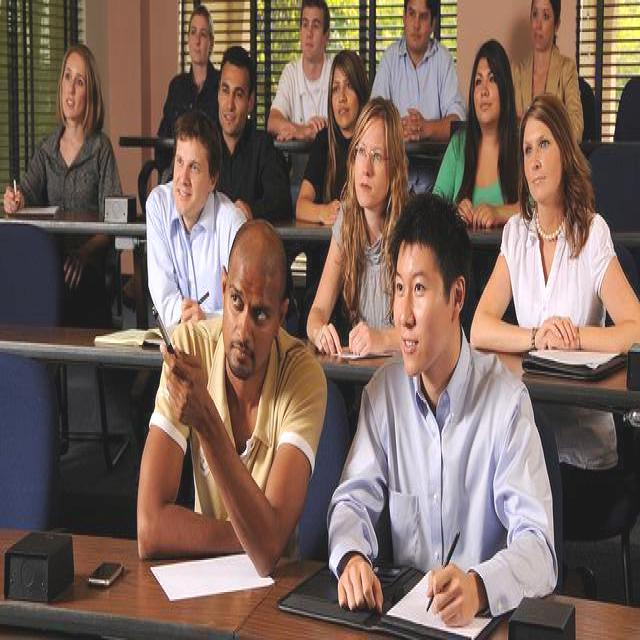face_nomask: (392, 249, 453, 379), (220, 272, 274, 373), (341, 140, 395, 210), (520, 128, 564, 203), (167, 150, 213, 212), (53, 62, 94, 124), (214, 76, 252, 140), (331, 71, 363, 133), (468, 66, 505, 119), (399, 7, 433, 57), (297, 14, 325, 59), (186, 21, 210, 66), (530, 7, 551, 46)
hand_noglove: (425, 553, 483, 638), (155, 334, 208, 425), (335, 547, 385, 617), (537, 311, 579, 357), (0, 172, 30, 222), (345, 315, 376, 359), (312, 318, 342, 359)
head_nohelmet: (396, 183, 458, 260), (227, 217, 294, 275), (520, 91, 568, 142), (362, 80, 398, 137), (173, 112, 216, 146), (61, 34, 99, 64), (470, 38, 508, 68), (331, 41, 363, 75), (221, 41, 252, 75), (298, 0, 330, 20), (187, 2, 214, 18)
person: (328, 201, 552, 599), (131, 230, 322, 556), (465, 106, 640, 348), (290, 92, 421, 352), (125, 124, 238, 326), (18, 28, 131, 206), (169, 42, 282, 212), (432, 32, 530, 203), (140, 2, 241, 144), (288, 53, 375, 187), (269, 2, 346, 124), (381, 2, 460, 117), (500, 0, 565, 108)
